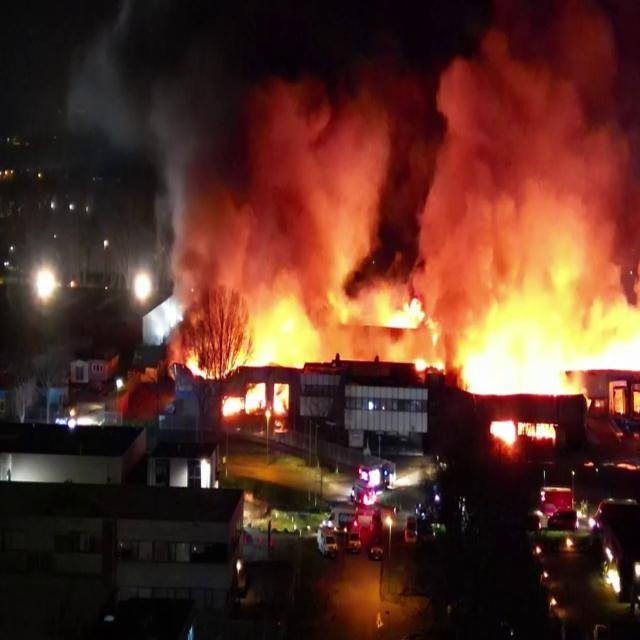Fire: (450, 264, 640, 448), (220, 294, 310, 420)
Smoke: (89, 31, 639, 292)
